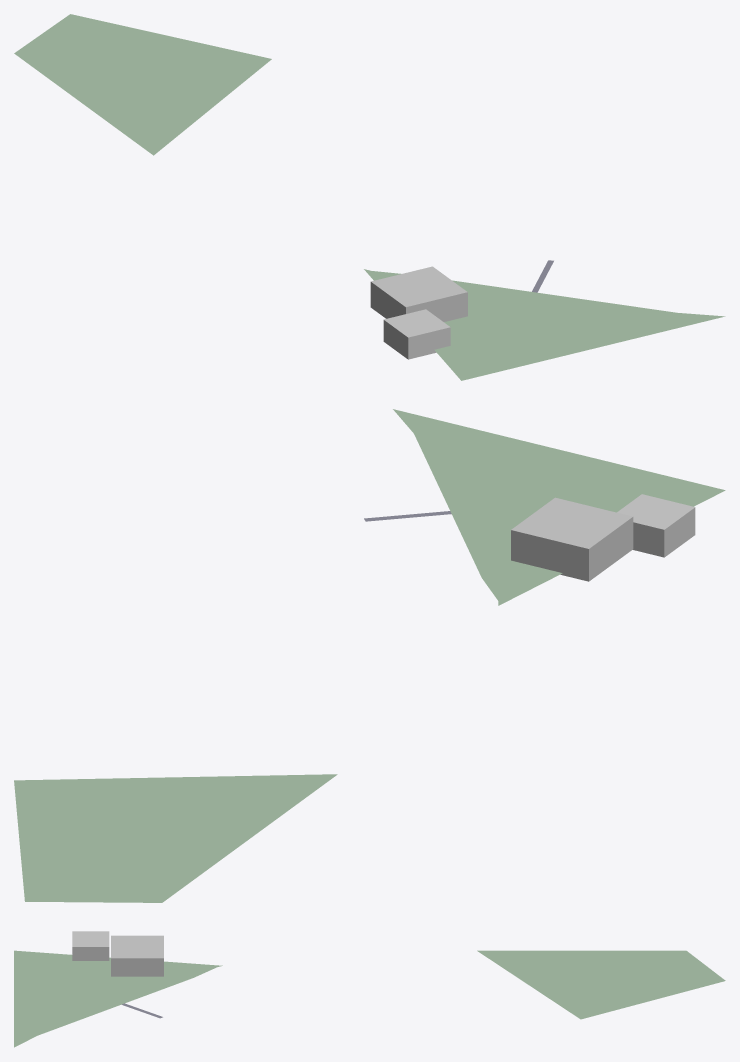
Rendered from 131_126_mid.glb.
The picture shows the model from 3 angles, top to bottom: view 1: azimuth 30°, elevation 25°; view 2: azimuth 150°, elevation 25°; view 3: azimuth 270°, elevation 25°; orthographic projection. The views are drawn at different scales.
Size of the model in its own units: 158 by 14.95 by 464.
